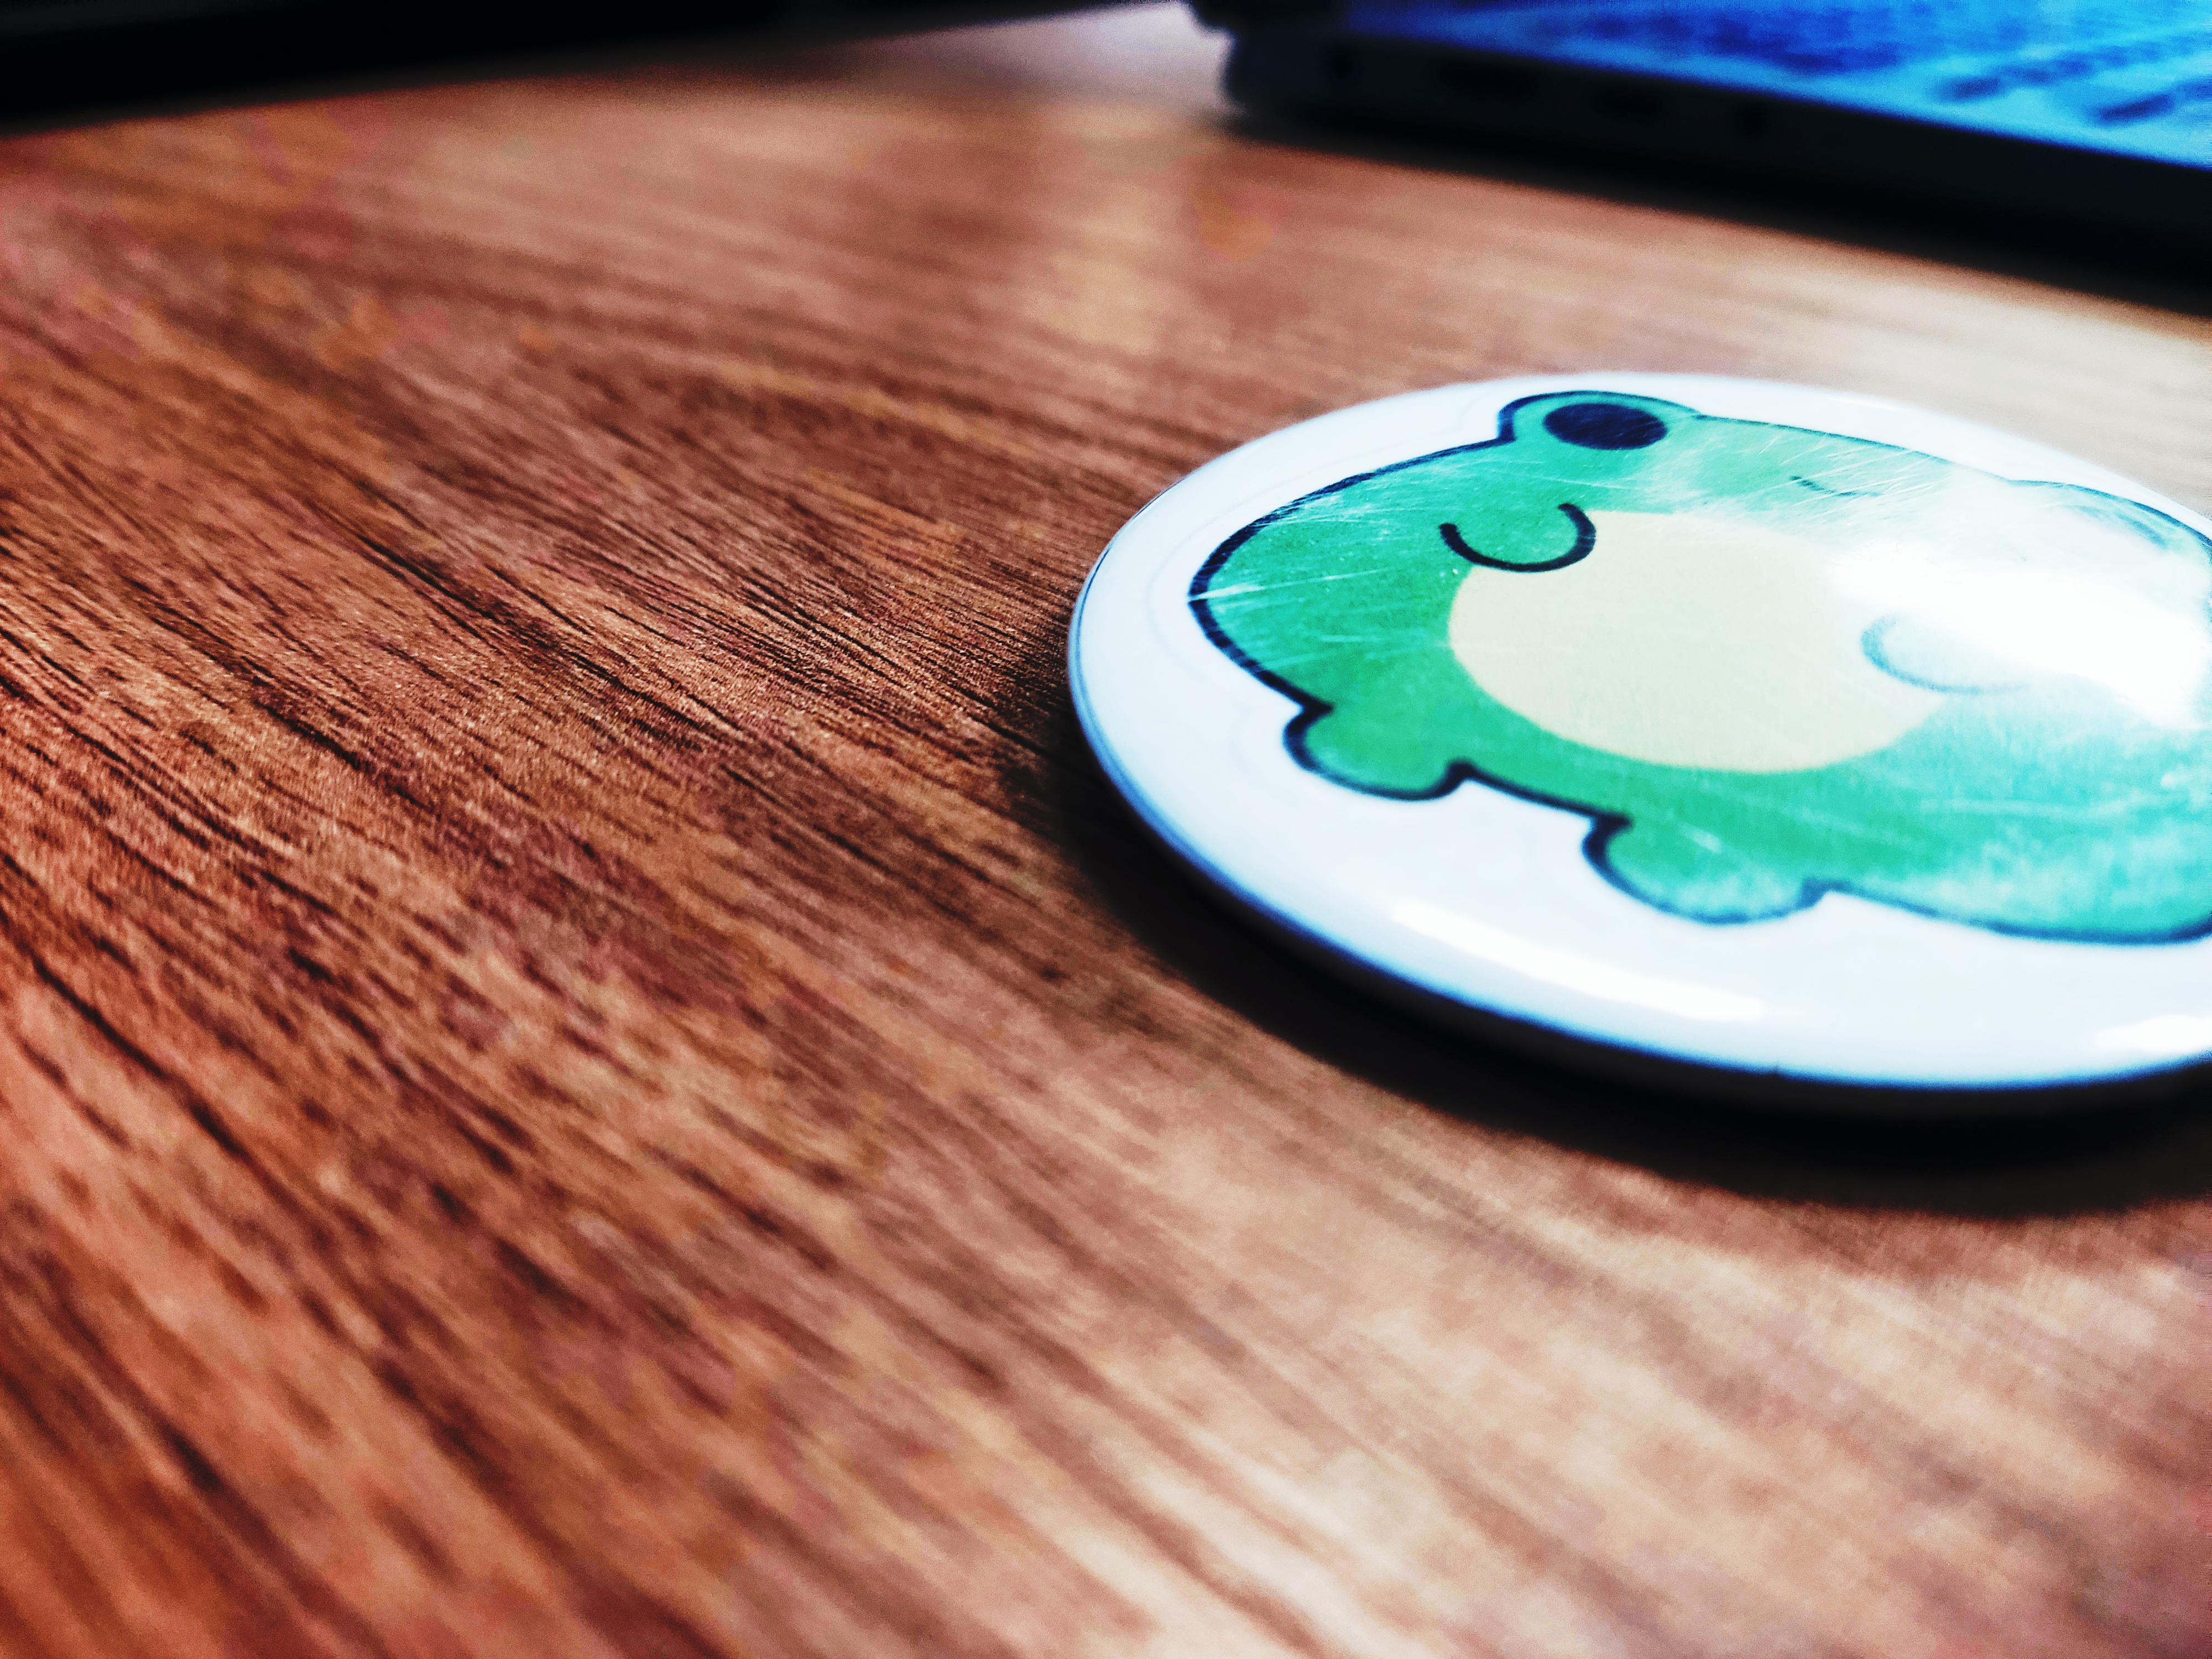pin: (981, 268, 2212, 1152)
